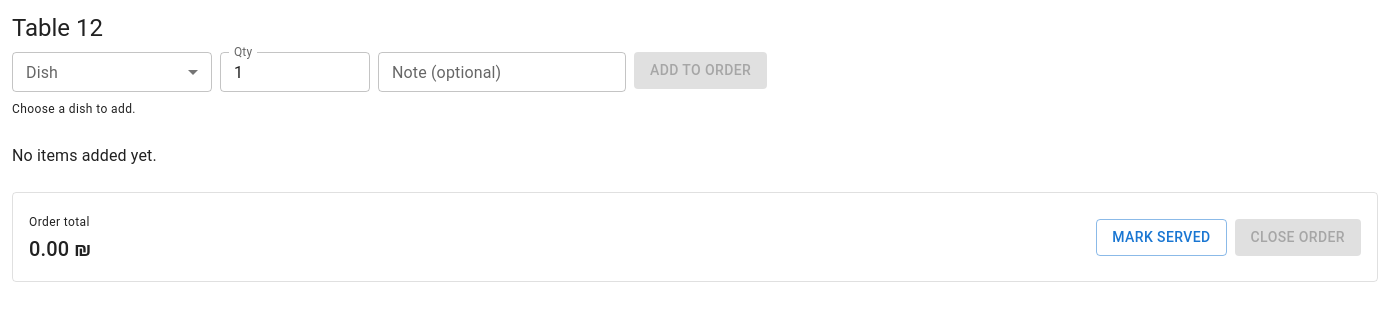
Test case: TableOrderDetailPage › shows the inline rejection message when the dish is unavailable
Click the dropdown named "Dish": click(112, 72) top-left (12, 52), bottom-right (212, 92)
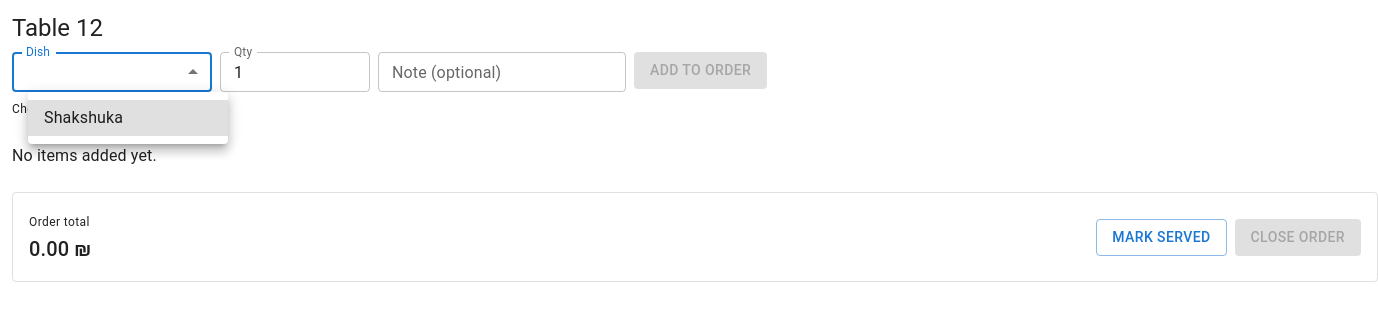
Click the option "Shakshuka": click(128, 118) top-left (28, 100), bottom-right (228, 136)
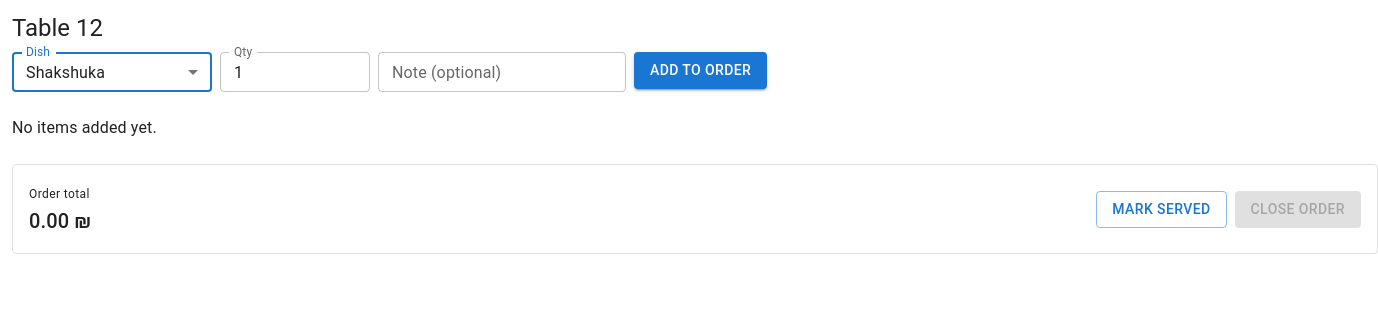
Click the button "Add to order": click(701, 71) top-left (634, 52), bottom-right (767, 89)
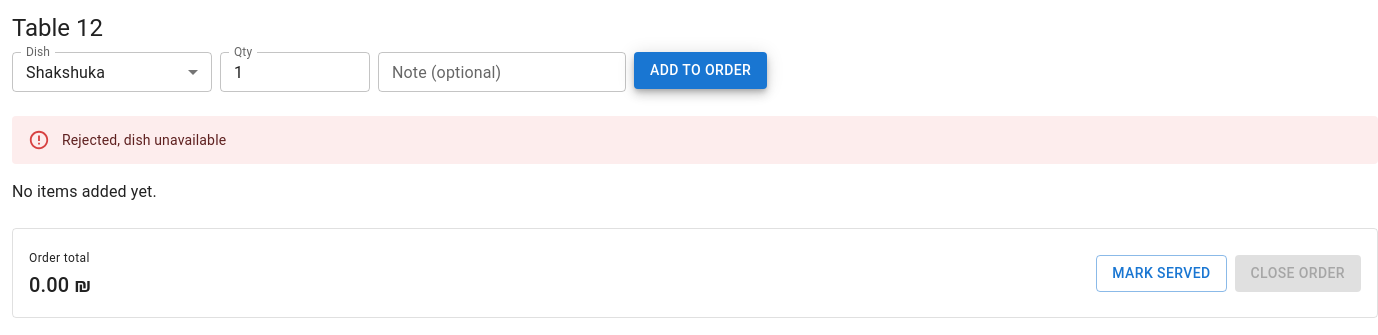
Expected: the text "Rejected, dish unavailable" is shown, top-left (62, 132), bottom-right (226, 148)
